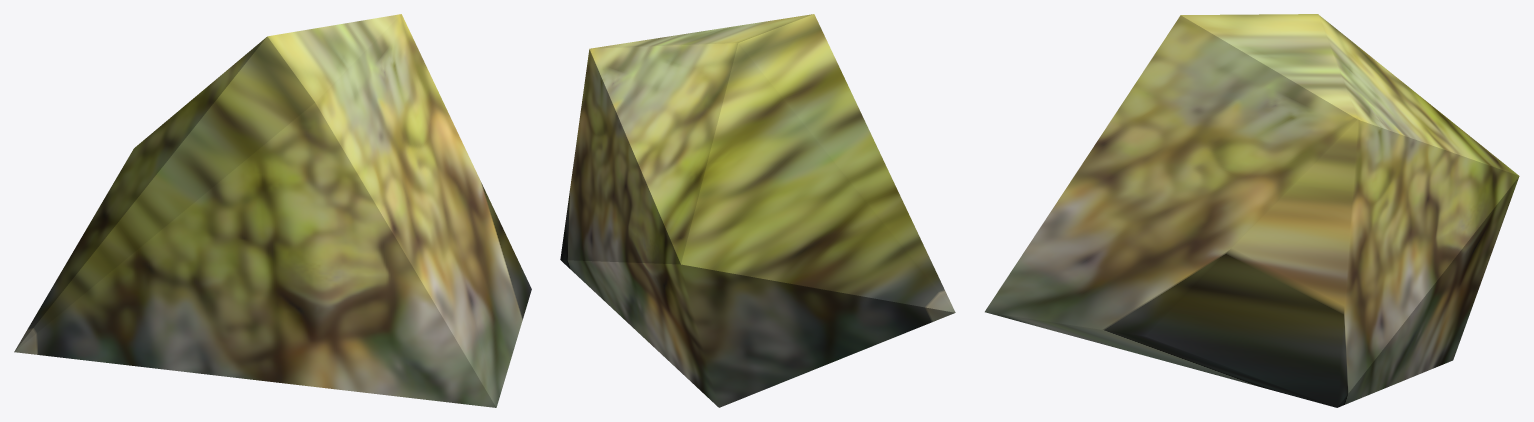
Rendered from Ridge_3_Rock_2.gltf.
3 views of the same model, side by side, from view 1: azimuth 30°, elevation 25°; view 2: azimuth 150°, elevation 25°; view 3: azimuth 270°, elevation 25° (orthographic). The views are drawn at different scales.
Visible parts, largest first — view 1: Ridge_3_Rock_2; view 2: Ridge_3_Rock_2; view 3: Ridge_3_Rock_2.
Part boxes in pixels (x1,y1,x2,y2): Ridge_3_Rock_2: [14, 14, 531, 407]; Ridge_3_Rock_2: [560, 14, 955, 407]; Ridge_3_Rock_2: [985, 14, 1519, 407].
Size of the model in its own units: 3.06 by 2.37 by 3.12.
1 material, 1 textured.
